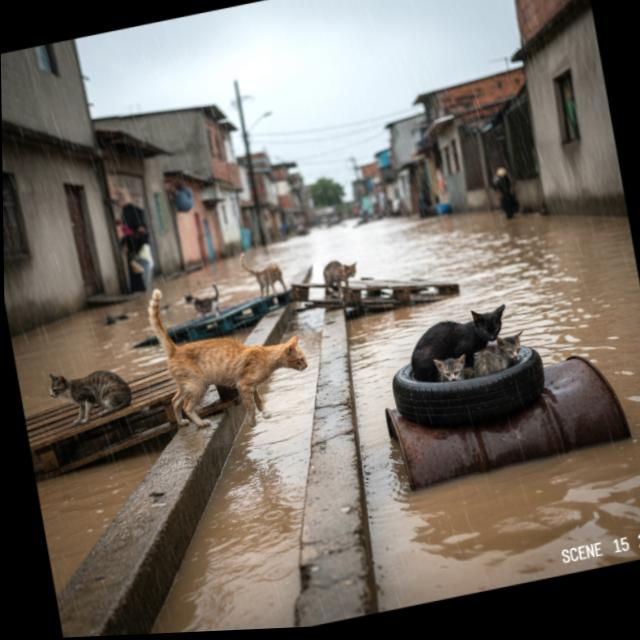cat: (138, 261, 318, 447), (399, 294, 519, 388), (41, 344, 139, 435), (232, 243, 296, 308), (467, 330, 524, 383), (315, 254, 363, 304), (427, 351, 475, 390), (183, 283, 227, 323)
civilian: (487, 162, 529, 227)
